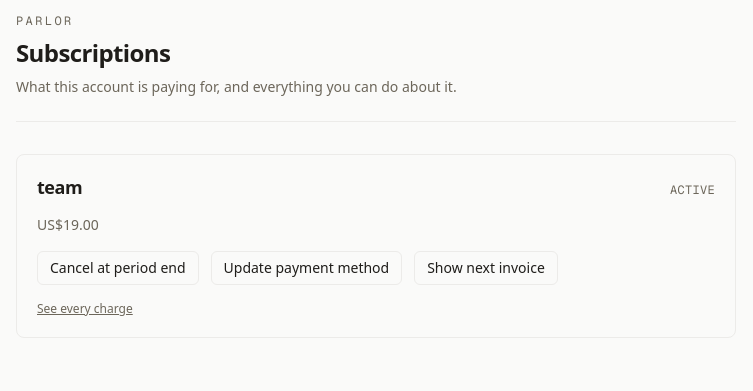
Test: the subscriptions screen › cancels at the period end and does not claim the subscription is canceled
Click the button "Cancel at period end": (118, 268) x1=37 y1=251 x2=199 y2=285
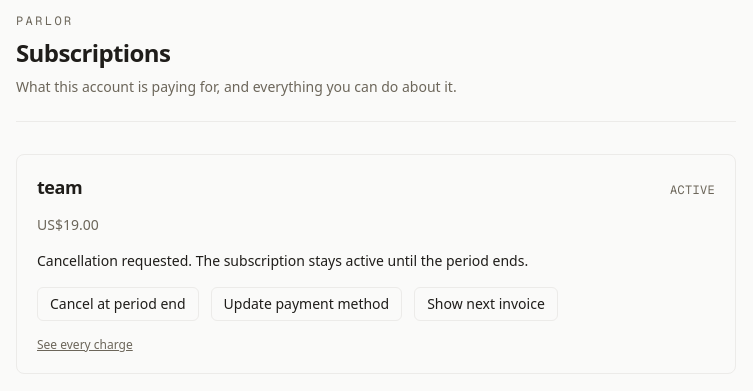
Expected: the message shows "stays active until the period ends", x1=37 y1=251 x2=528 y2=270
